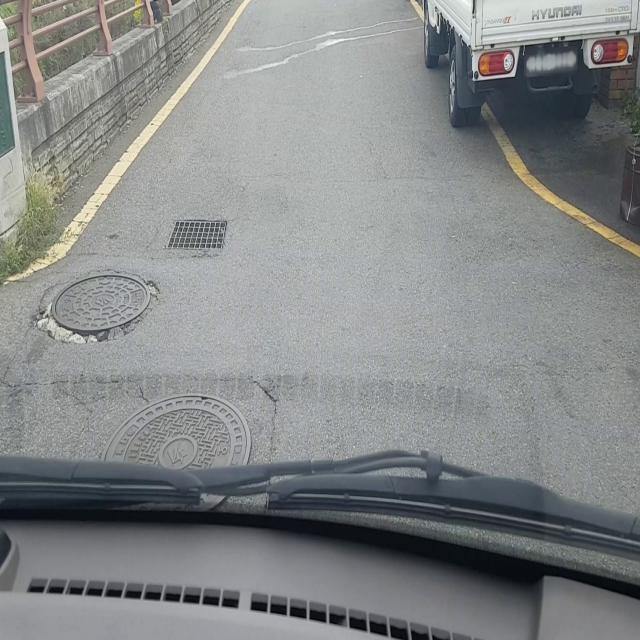Pothole: (31, 266, 163, 350)
